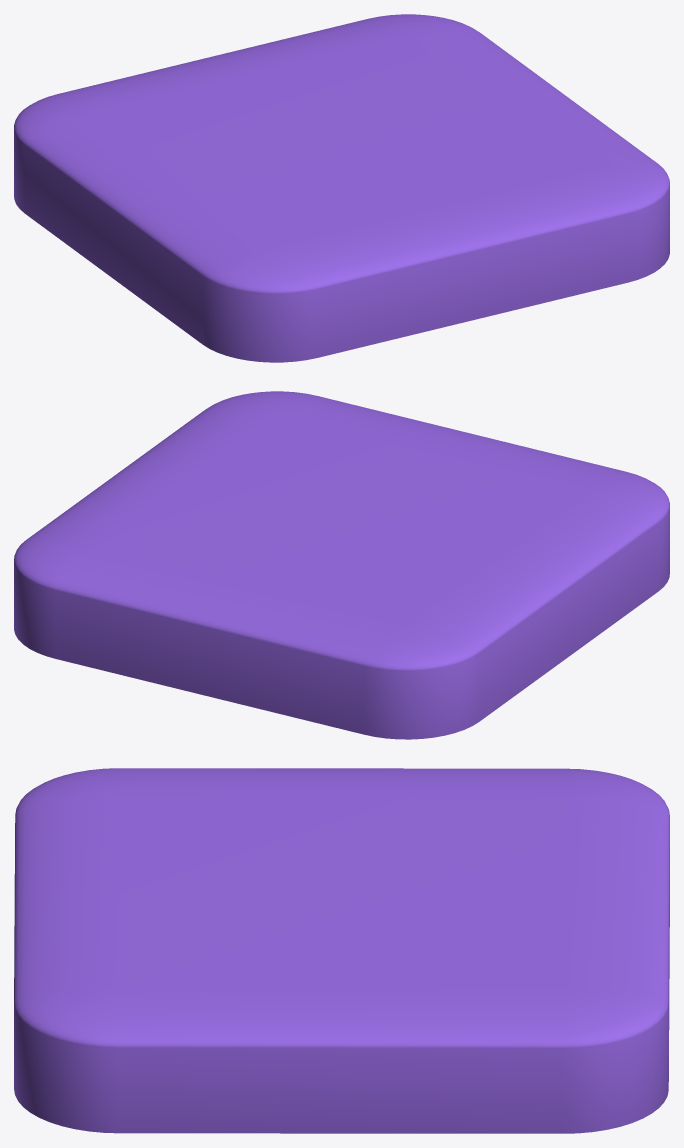
File: platform.glb
3 renders of one model, top to bottom at view 1: azimuth 30°, elevation 25°; view 2: azimuth 150°, elevation 25°; view 3: azimuth 270°, elevation 25°, orthographic. The views are drawn at different scales.
Visible parts, largest first — view 1: platform.028; view 2: platform.028; view 3: platform.028.
Part boxes in pixels (bbox=[...]): platform.028: bbox=[14, 14, 669, 362]; platform.028: bbox=[14, 391, 669, 739]; platform.028: bbox=[14, 768, 669, 1133].
Size of the model in its own units: 2.43 by 0.416 by 2.43.
